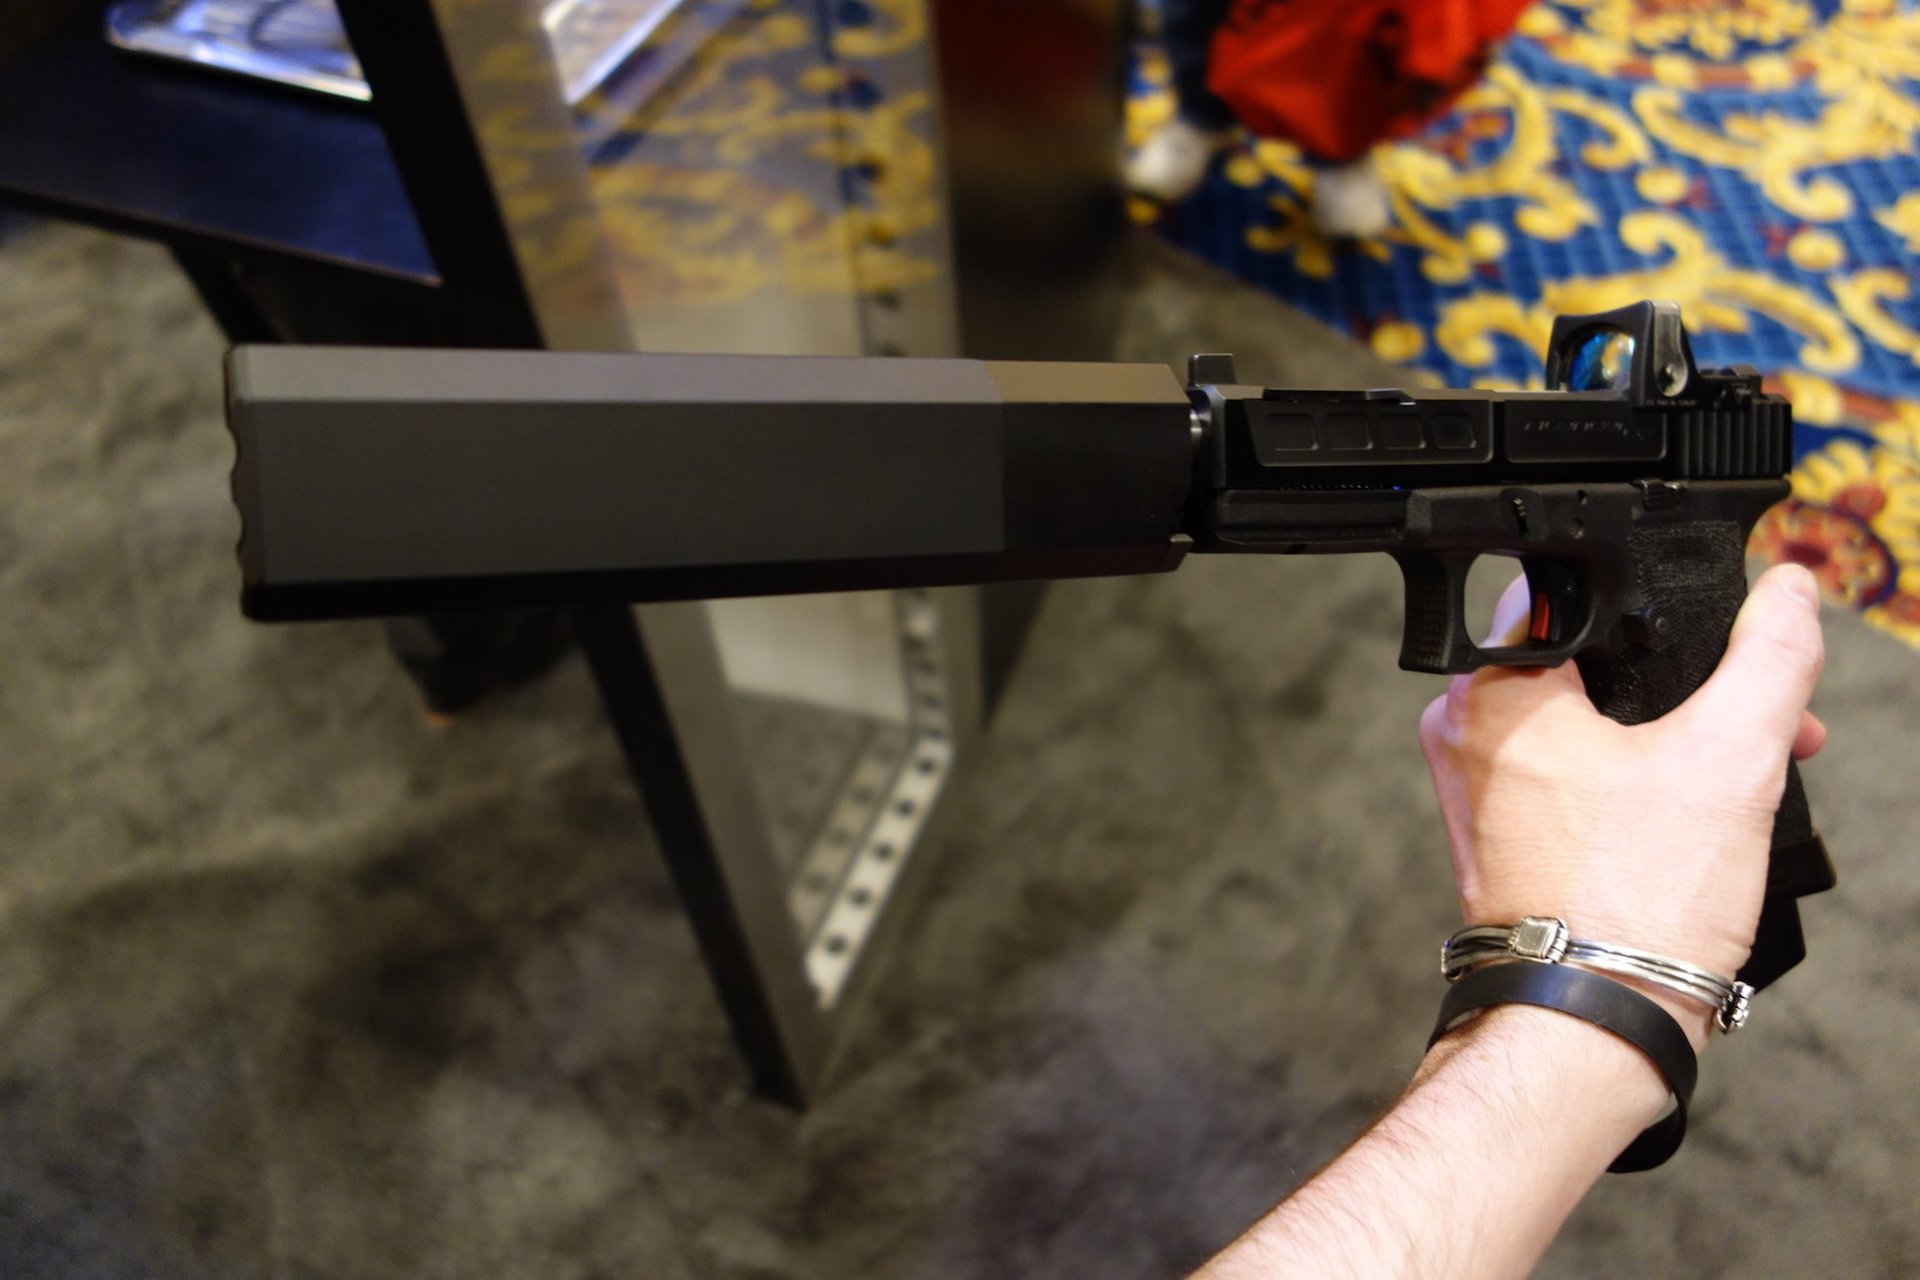pistol: (1179, 296, 1831, 981)
